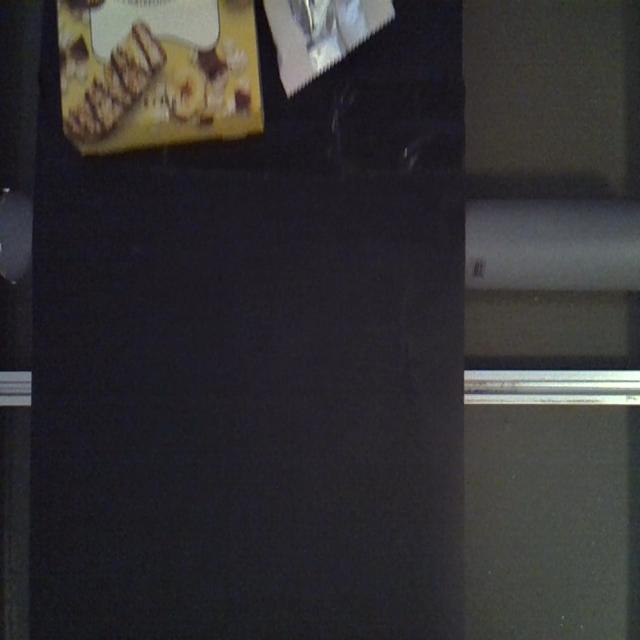carton: (53, 2, 269, 161)
packaging-soft-plastic: (261, 0, 398, 103)
